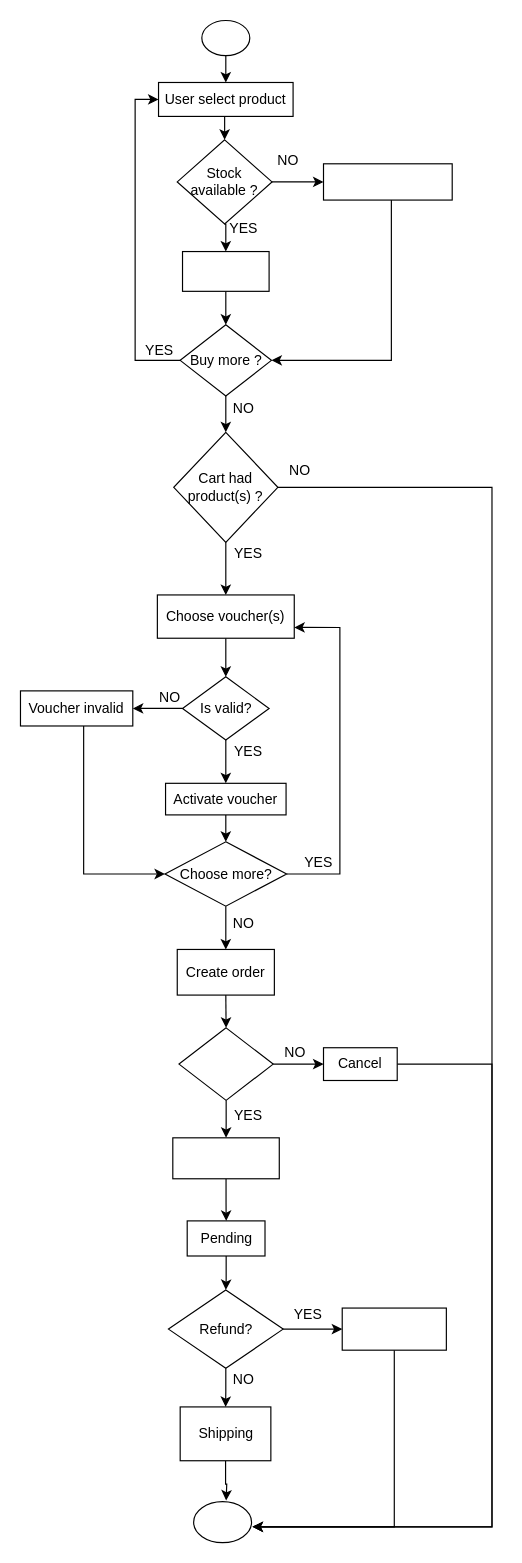
Image size: 522x1563. Some labels were removed from this diagram. The centre of each missing label's shape, as x and y in pixels:
Add to cart: the point at 225,270
Deduct stock: the point at 225,1158
End: the point at 222,1522
Pay order ?: the point at 225,1063
Return stock and money: the point at 393,1328
Show out of stock: the point at 387,181
Start: the point at 225,37
